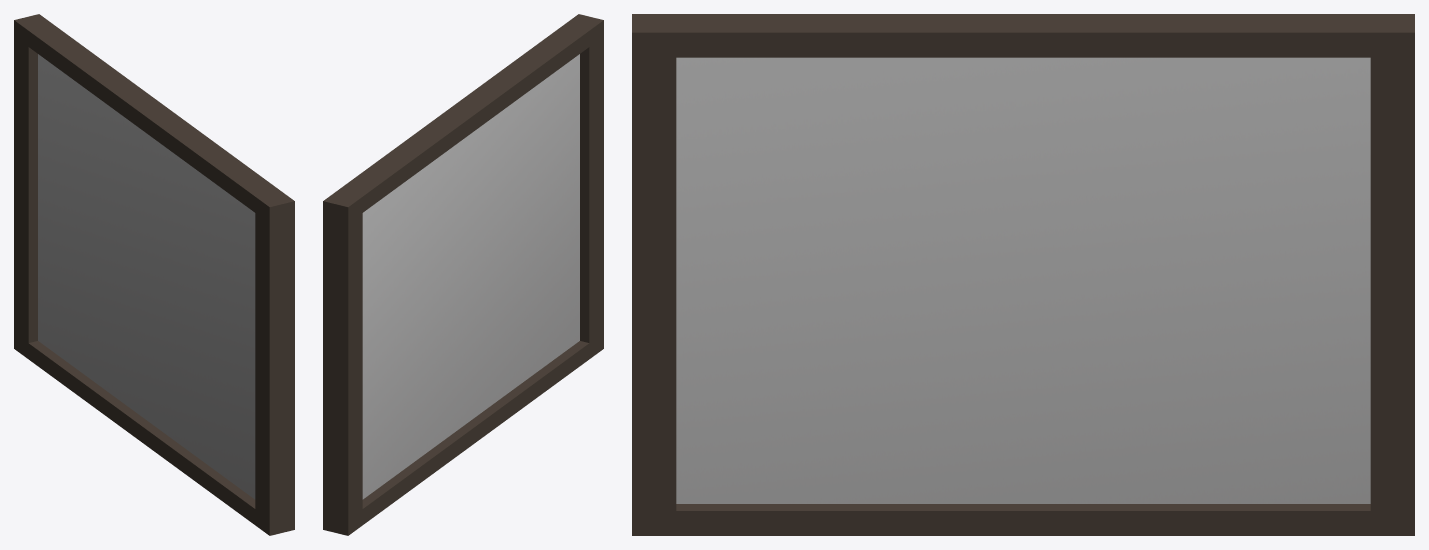
File: Wall Short.fbx
3 renders of one model, left to right at view 1: azimuth 30°, elevation 25°; view 2: azimuth 150°, elevation 25°; view 3: azimuth 270°, elevation 25°, orthographic. The views are drawn at different scales.
Parts seen in each view (by area): view 1: pCube32; view 2: pCube32; view 3: pCube32.
Part boxes in pixels (x1,y1,x2,y2): pCube32: (14, 14, 294, 535); pCube32: (323, 14, 603, 535); pCube32: (632, 14, 1414, 535).
Size of the model in its own units: 1 by 12.5 by 17.61.
Materials: 1 (1 with a texture image).
